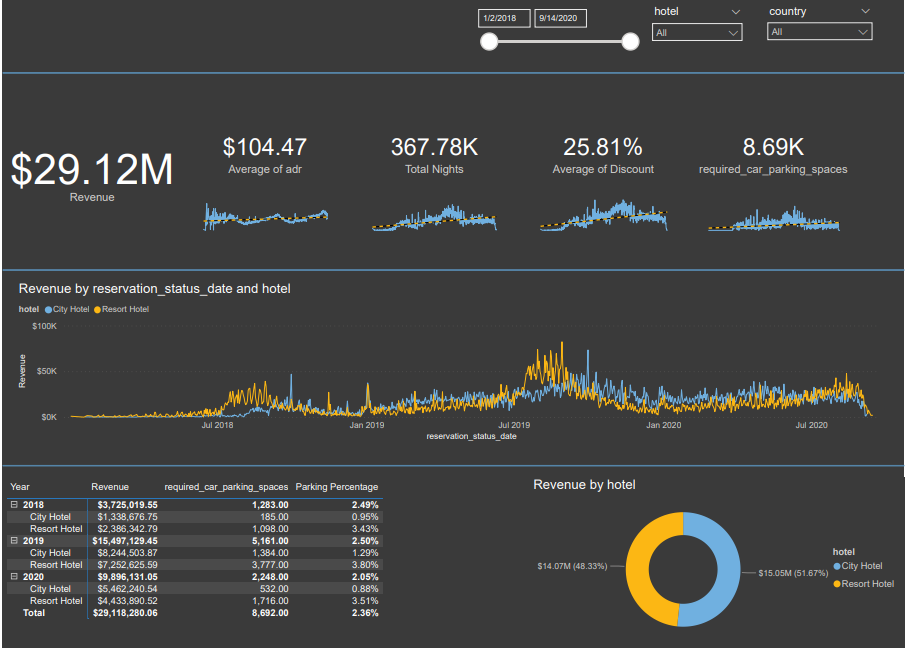

The page's visual inventory and layout, read from the dashboard file:
{"tool":"powerbi","page":{"name":"Page 1","canvas":[1280,920],"ordinal":0},"visuals":[{"type":"shape","box":[0,367.8,1279.9,32.8],"z":0},{"type":"shape","box":[0,645,1279.9,32.8],"z":1000},{"type":"card","fields":{"Values":["Sum(Query1.Revenue)"]},"box":[1.1,120,252.3,247.8],"z":2000},{"type":"card","fields":{"Values":["Avg(Query1.adr)"]},"box":[252.3,167.5,241,99.6],"z":3000},{"type":"card","fields":{"Values":["Query1.Total Nights"]},"box":[493.4,167.5,239.9,99.6],"z":4000},{"type":"card","fields":{"Values":["Avg(Query1.Discount)"]},"box":[733.3,167.5,239.9,99.6],"z":5000},{"type":"lineChart","fields":{"Category":["Query1.reservation_status_date"],"Y":["Sum(Query1.Revenue)"],"Series":["Query1.hotel"]},"box":[18.1,400.6,1244.8,232],"z":6000},{"type":"slicer","fields":{"Values":["Query1.country"]},"box":[1076.2,2.3,168.6,84.9],"z":7000},{"type":"slicer","fields":{"Values":["Query1.hotel"]},"box":[912.1,3.4,148.2,83.7],"z":8000},{"type":"lineChart","fields":{"Y":["Avg(Query1.adr)"],"Category":["Query1.reservation_status_date"]},"box":[270.5,267.1,206,66.8],"z":9000},{"type":"lineChart","fields":{"Y":["Query1.Total Nights"],"Category":["Query1.reservation_status_date"]},"box":[510.4,267.1,206,66.8],"z":10000},{"type":"lineChart","fields":{"Category":["Query1.reservation_status_date"],"Y":["Sum(Query1.Discount)"]},"box":[748,267.1,210.5,66.8],"z":11000},{"type":"card","fields":{"Values":["Sum(Query1.required_car_parking_spaces)"]},"box":[974.3,167.5,241,99.6],"z":12000},{"type":"lineChart","fields":{"Y":["Sum(Query1.required_car_parking_spaces)"],"Category":["Query1.reservation_status_date"]},"box":[986.8,267.1,216.1,66.8],"z":13000},{"type":"donutChart","fields":{"Category":["Query1.hotel"],"Y":["Sum(Query1.Revenue)"]},"box":[748,677.8,531.9,242.2],"z":14000},{"type":"pivotTable","fields":{"Rows":["Query1.reservation_status_date.Variation.Date Hierarchy.Year","Query1.hotel"],"Values":["Sum(Query1.Revenue)","Sum(Query1.required_car_parking_spaces)","Query1.Parking Percentage"]},"box":[1.1,677.8,715.2,242.2],"z":15000},{"type":"slicer","fields":{"Values":["Query1.reservation_status_date"]},"box":[662,3.4,250.1,83.7],"z":16000},{"type":"shape","box":[0,87.1,1279.9,32.8],"z":17000}]}

Visuals, with their boxes in screenshot pixels (x1, y1, x2, y2), scaled from the page's 1280x920 canvas onto the 908x651 screenshot:
shape: region(0, 260, 907, 283)
shape: region(0, 456, 907, 480)
card - Sum(Query1.Revenue): region(1, 85, 180, 260)
card - Avg(Query1.adr): region(179, 119, 350, 189)
card - Query1.Total Nights: region(350, 119, 520, 189)
card - Avg(Query1.Discount): region(520, 119, 690, 189)
lineChart - Query1.reservation_status_date x Sum(Query1.Revenue): region(13, 283, 896, 448)
slicer - Query1.country: region(763, 2, 883, 62)
slicer - Query1.hotel: region(647, 2, 752, 62)
lineChart - Avg(Query1.adr) x Query1.reservation_status_date: region(192, 189, 338, 236)
lineChart - Query1.Total Nights x Query1.reservation_status_date: region(362, 189, 508, 236)
lineChart - Query1.reservation_status_date x Sum(Query1.Discount): region(531, 189, 680, 236)
card - Sum(Query1.required_car_parking_spaces): region(691, 119, 862, 189)
lineChart - Sum(Query1.required_car_parking_spaces) x Query1.reservation_status_date: region(700, 189, 853, 236)
donutChart - Query1.hotel x Sum(Query1.Revenue): region(531, 480, 907, 650)
pivotTable - Query1.reservation_status_date.Variation.Date Hierarchy.Year x Query1.hotel: region(1, 480, 508, 650)
slicer - Query1.reservation_status_date: region(470, 2, 647, 62)
shape: region(0, 62, 907, 85)
